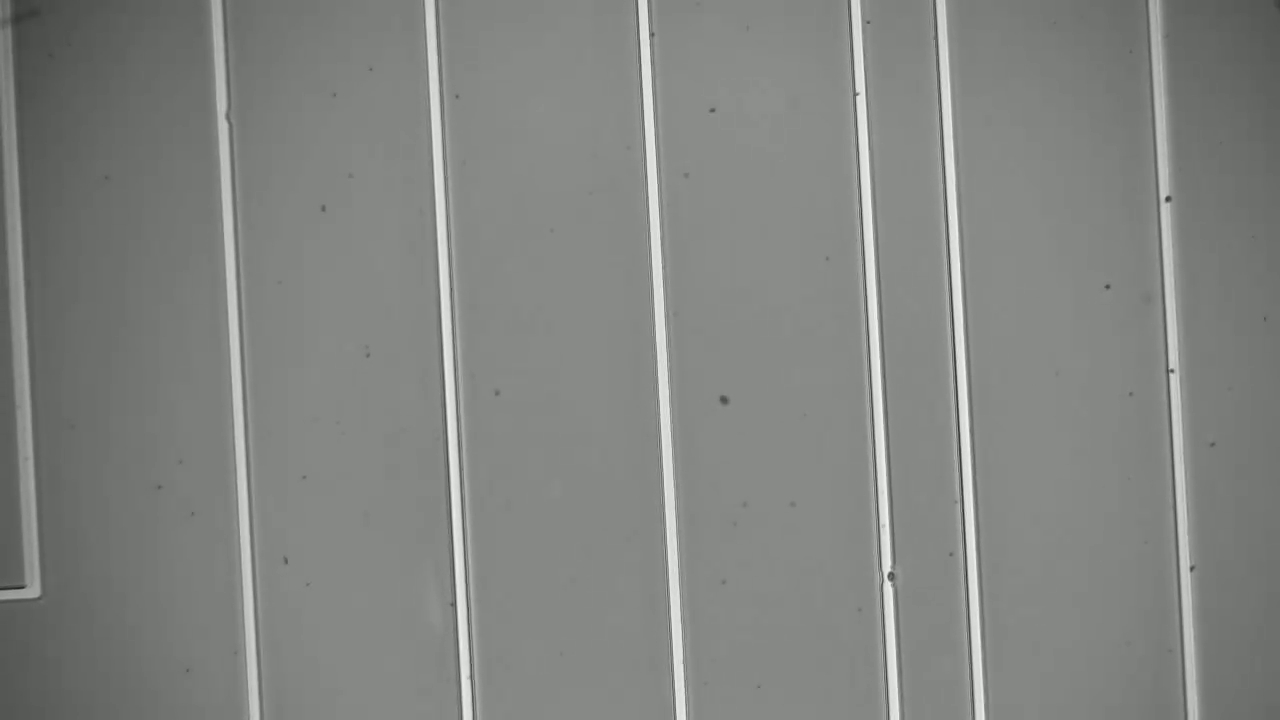stains_enbedded: (872, 563, 905, 590)
